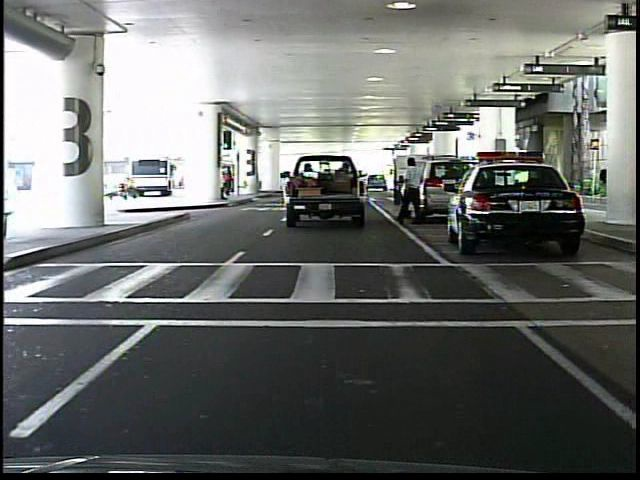person: (393, 155, 430, 229), (223, 160, 237, 201)
